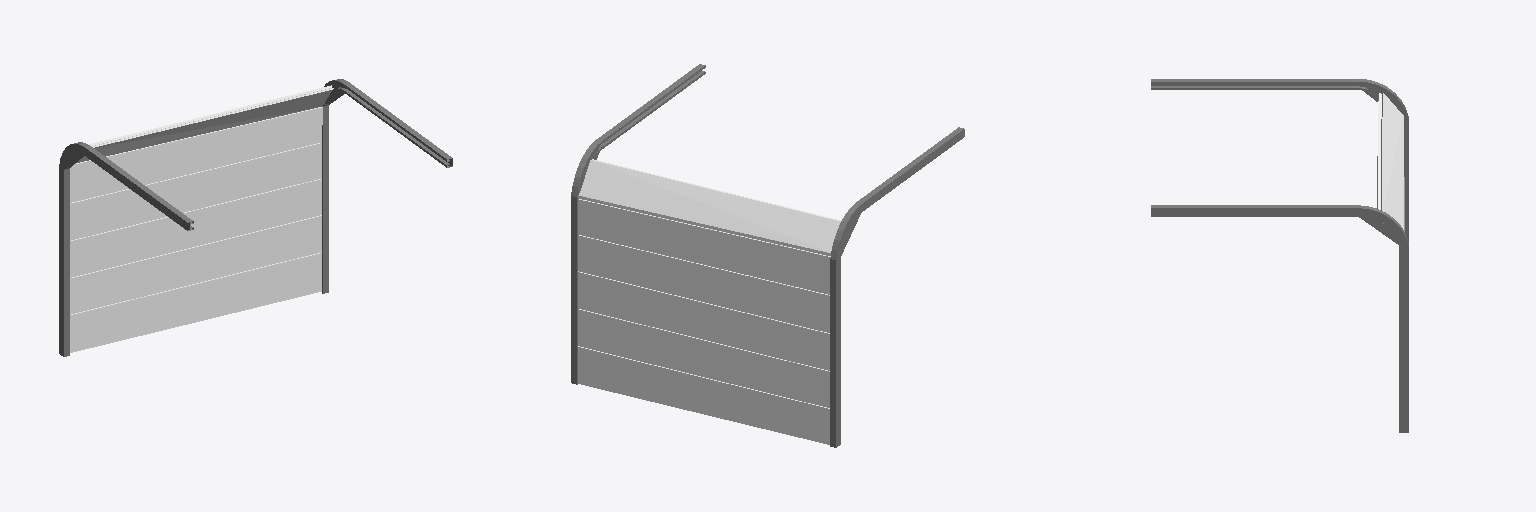
Rendered from garage_door.obj.
3 renders of one model, left to right at view 1: azimuth 30°, elevation 25°; view 2: azimuth 150°, elevation 25°; view 3: azimuth 270°, elevation 25°, orthographic.
Visible parts, largest first — view 1: garage_door_Cube, garage_door_mechanism_Cube.001; view 2: garage_door_Cube, garage_door_mechanism_Cube.001; view 3: garage_door_mechanism_Cube.001, garage_door_Cube.
Part boxes in pixels (x1,y1,x2,y2): garage_door_Cube: (70,85,333,352); garage_door_mechanism_Cube.001: (59,79,452,356); garage_door_Cube: (578,159,840,444); garage_door_mechanism_Cube.001: (571,64,964,447); garage_door_mechanism_Cube.001: (1151,79,1408,432); garage_door_Cube: (1377,92,1404,231).
Bounding box in the file's own units: 3.59 × 2.91 × 3.02.